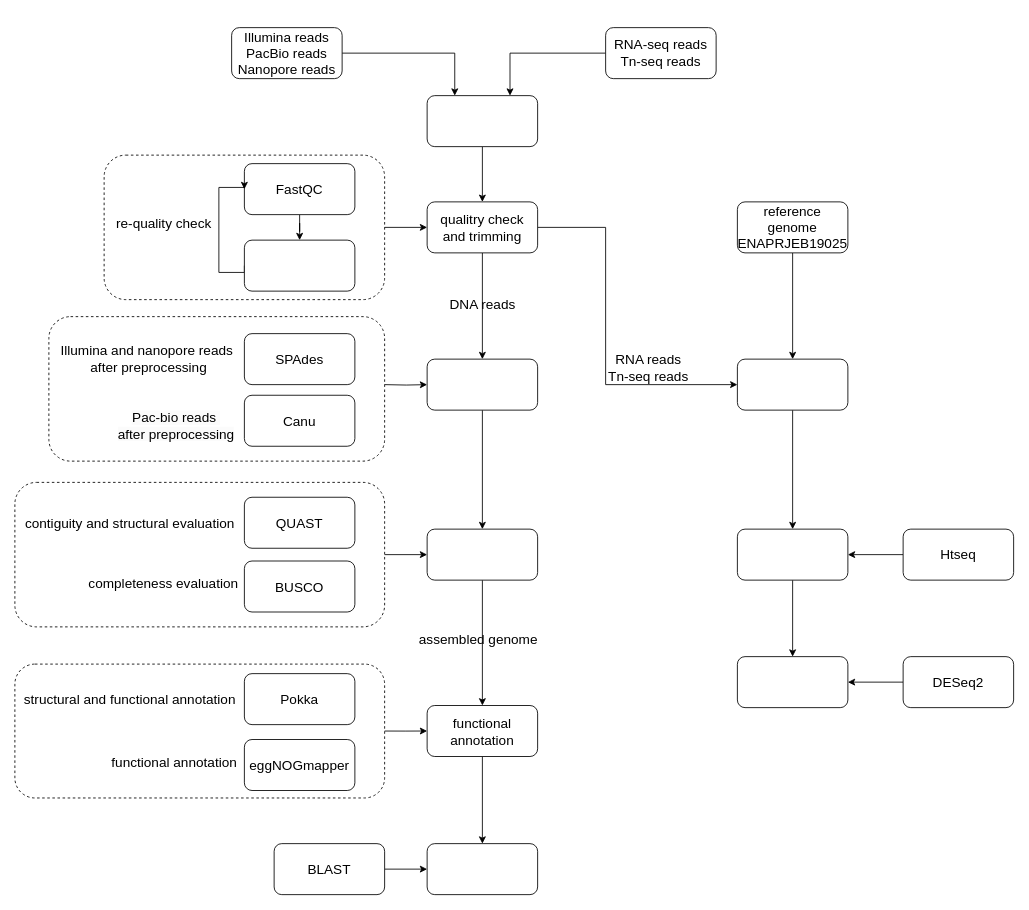
This 1029x910 diagram has some shape labels left out. Here are the shapes that lost their labels. From the top down, the centre of each, then its label:
the point at 482,121: raw data
the point at 299,265: Trimmomatic
the point at 482,384: genome assembly
the point at 792,384: genome mapping
the point at 482,554: assembly evaluation
the point at 792,554: genes read count analysis
the point at 792,682: differential expression analysis
the point at 482,869: genome comparison
